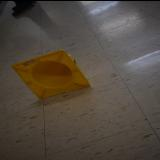cone: (11, 48, 90, 98)
